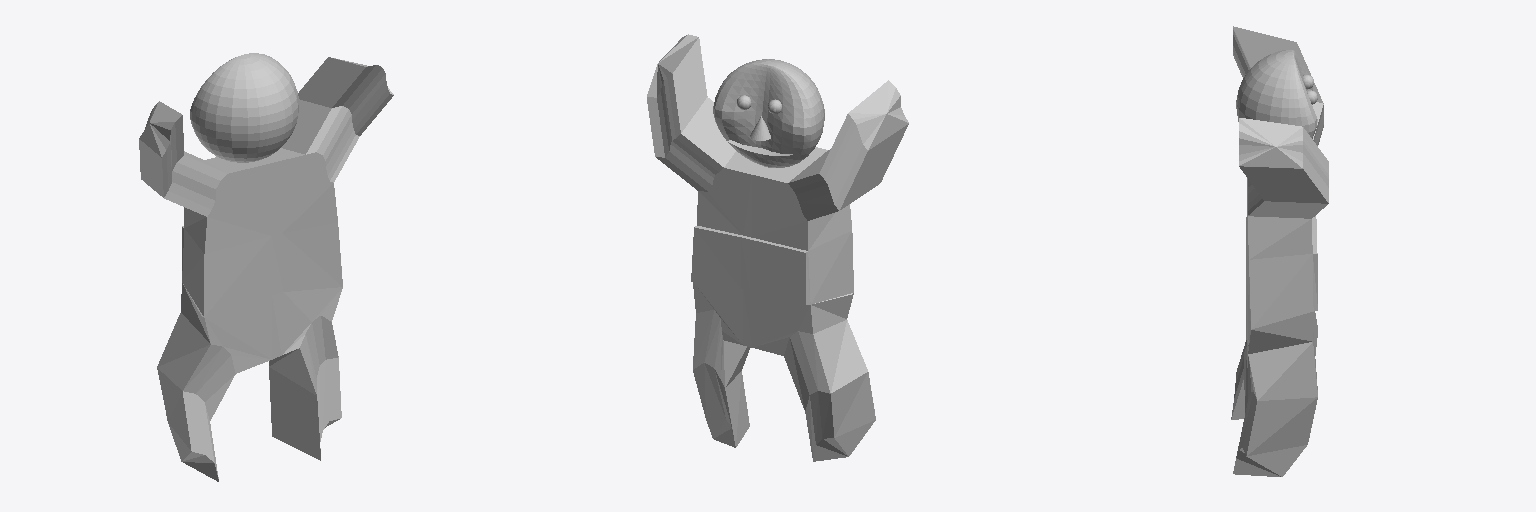
File: man_000031.obj
3 renders of one model, left to right at view 1: azimuth 30°, elevation 25°; view 2: azimuth 150°, elevation 25°; view 3: azimuth 270°, elevation 25°, orthographic.
Parts seen in each view (by area): view 1: Cube; view 2: Cube; view 3: Cube.
Boxes of the visible parts, x1,y1,x2,y2 form: Cube: [139, 53, 393, 481]; Cube: [647, 34, 908, 461]; Cube: [1231, 26, 1328, 476].
Bounding box in the file's own units: 79.08 × 127 × 28.43.